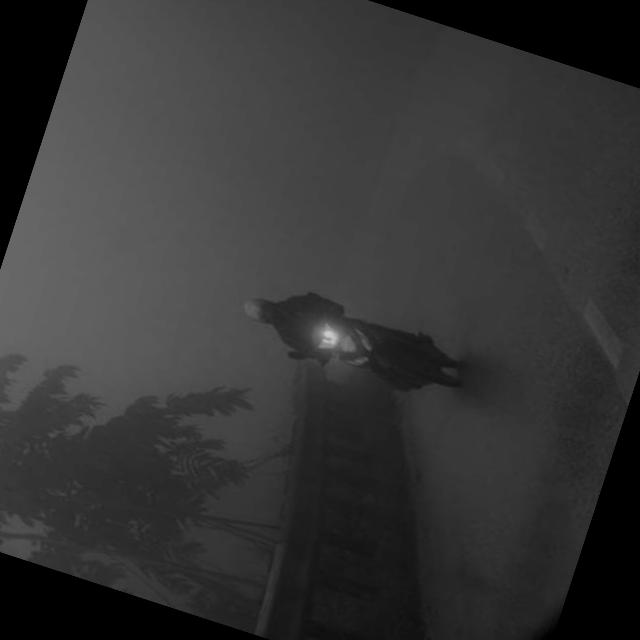Motobike: (276, 280, 488, 419)
